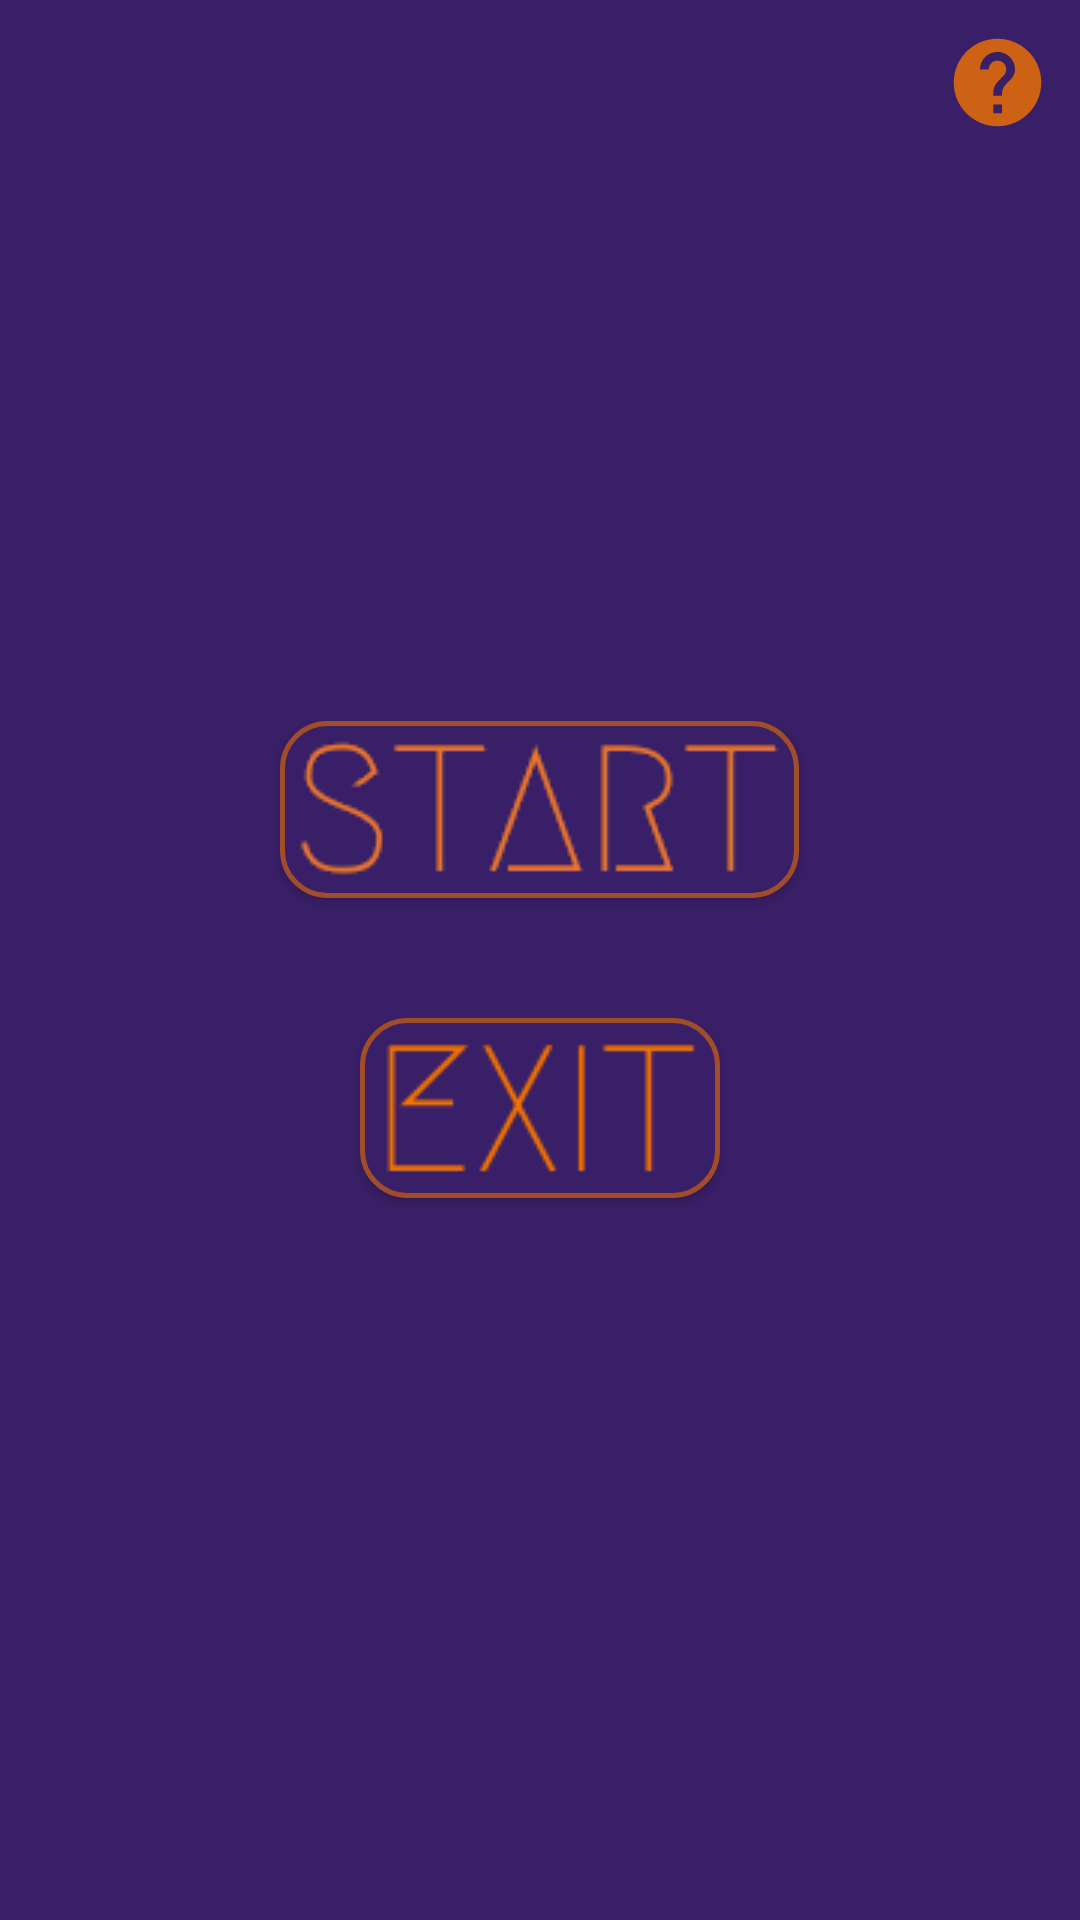

Icons on this 1080 x 1920 Android screen, each with the point to tap as (x,y):
help action: (997,82)
